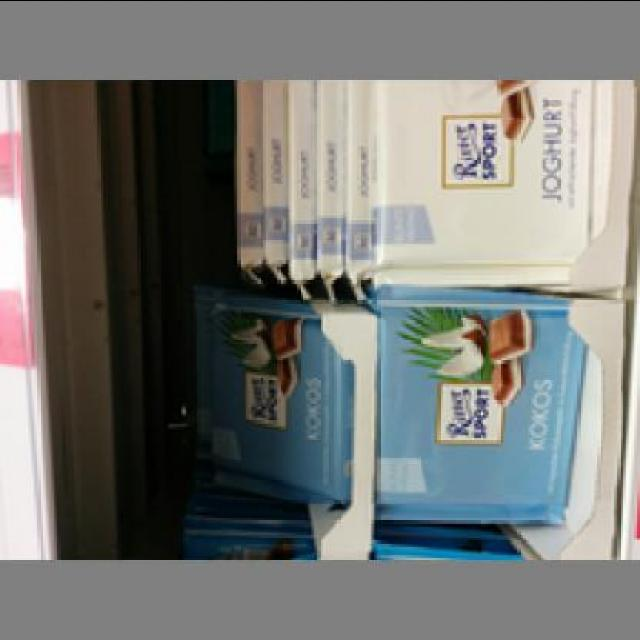Chocolate bar: (370, 296, 586, 532), (372, 86, 596, 289), (200, 308, 354, 508)
